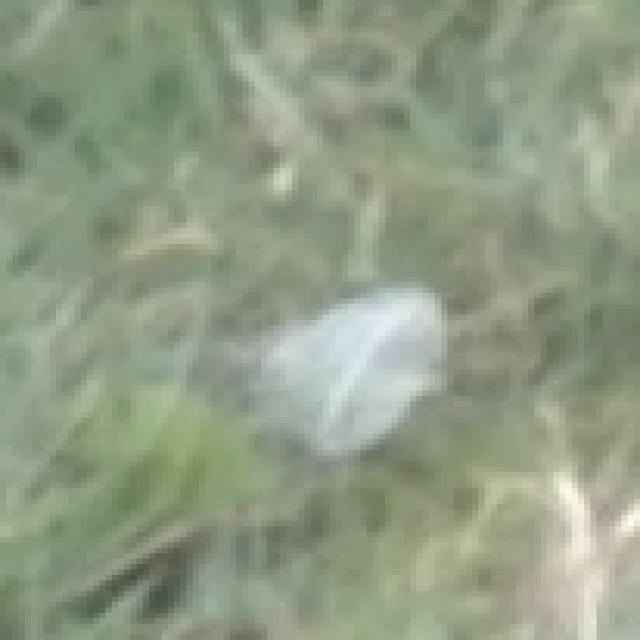organic waste: (138, 230, 496, 556)
